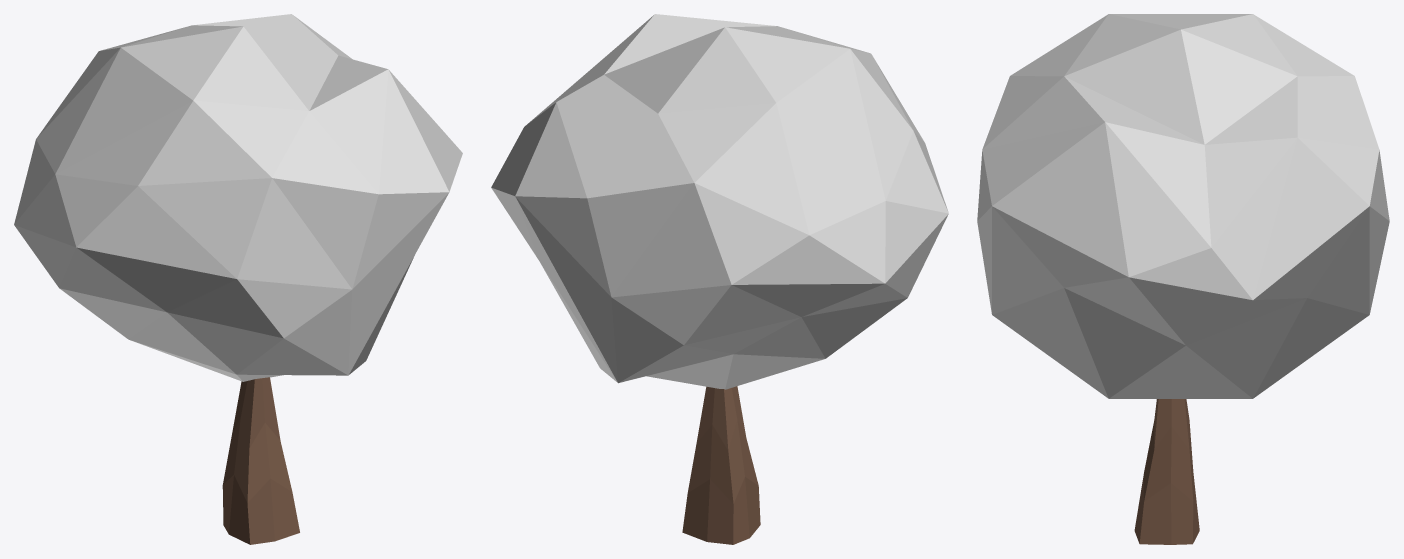
Rendered from Tree_48_White.fbx.
3 renders of one model, left to right at view 1: azimuth 30°, elevation 25°; view 2: azimuth 150°, elevation 25°; view 3: azimuth 270°, elevation 25°, orthographic. The views are drawn at different scales.
Visible parts, largest first — view 1: Tree_48_White_Part_1, Tree_48_White_Part_2; view 2: Tree_48_White_Part_1, Tree_48_White_Part_2; view 3: Tree_48_White_Part_1, Tree_48_White_Part_2.
Boxes of the visible parts, left/top/right/bottom form: Tree_48_White_Part_1: left=14, top=14, right=462, bottom=381; Tree_48_White_Part_2: left=222, top=377, right=299, bottom=544; Tree_48_White_Part_1: left=491, top=14, right=948, bottom=389; Tree_48_White_Part_2: left=682, top=386, right=760, bottom=544; Tree_48_White_Part_1: left=977, top=14, right=1389, bottom=398; Tree_48_White_Part_2: left=1134, top=399, right=1199, bottom=544.
Size of the model in its own units: 564 by 696 by 524.
